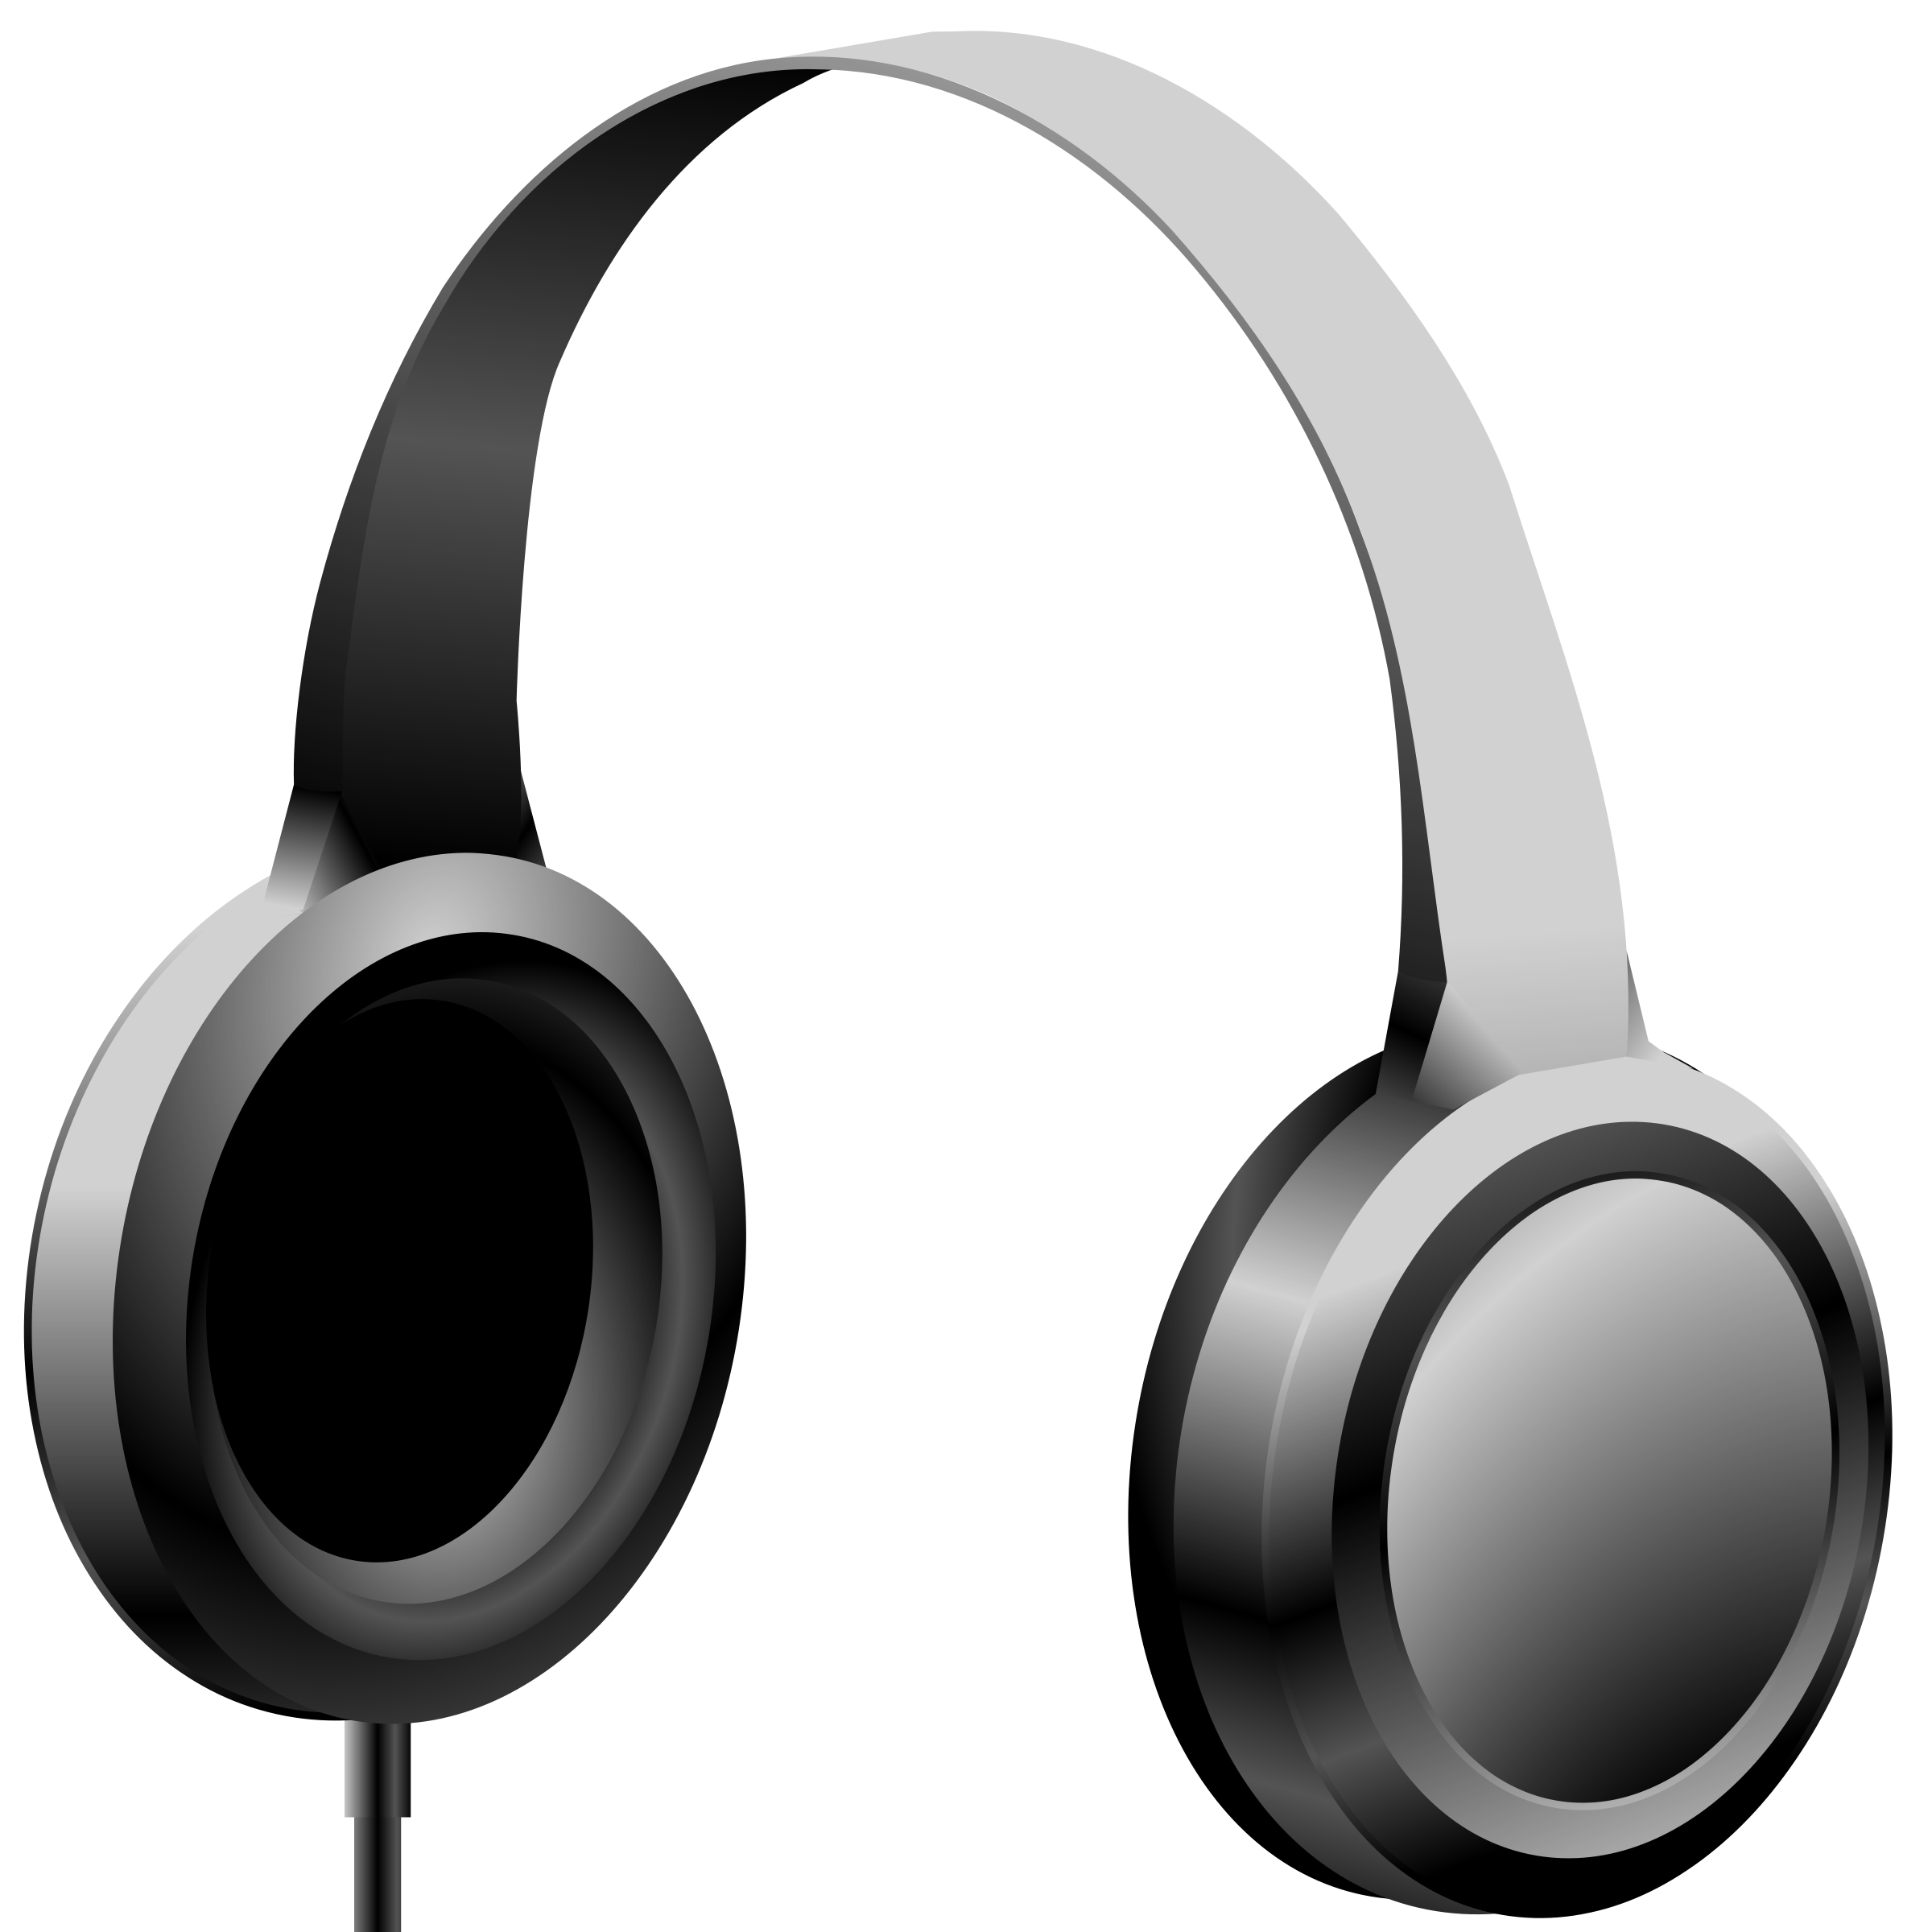headphone: (37, 51, 1932, 1923)
